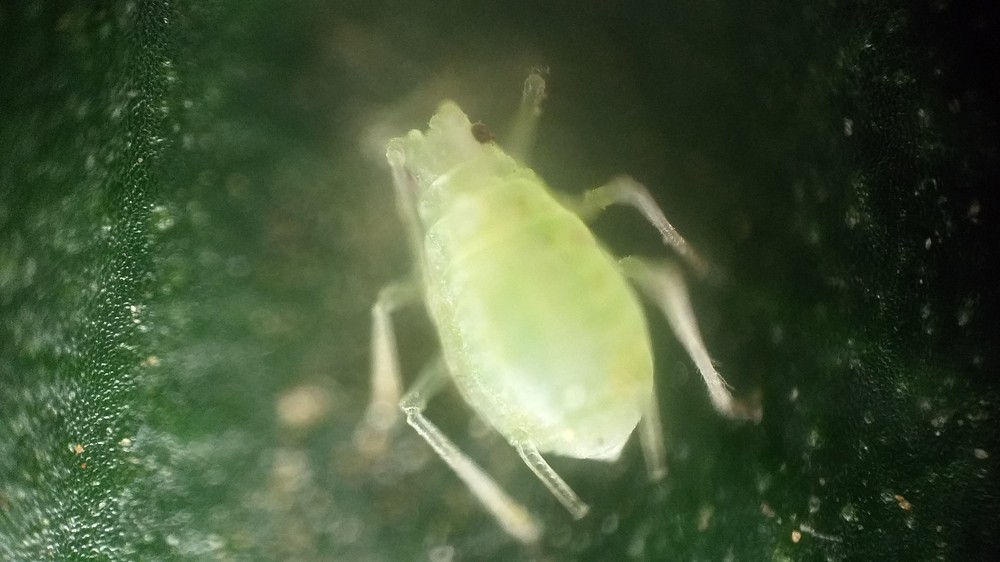Pulgon: (280, 50, 785, 544)
